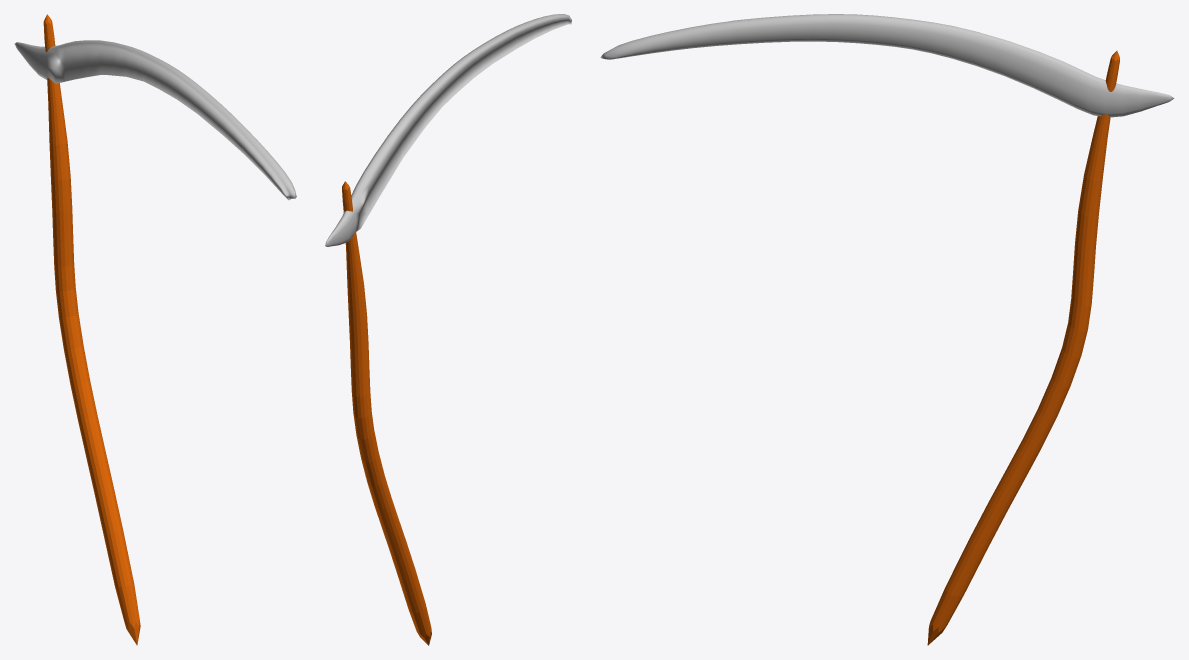
File: scythe.fbx
The picture shows the model from 3 angles, left to right: view 1: azimuth 30°, elevation 25°; view 2: azimuth 150°, elevation 25°; view 3: azimuth 270°, elevation 25°; orthographic projection. The views are drawn at different scales.
Parts seen in each view (by area): view 1: Cylinder, Cube; view 2: Cylinder, Cube; view 3: Cube, Cylinder.
Part boxes in pixels (x1,y1,x2,y2): Cylinder: (43,14,140,645); Cube: (14,40,296,200); Cylinder: (342,181,431,645); Cube: (325,14,571,246); Cube: (600,14,1174,117); Cylinder: (927,50,1119,645).
Bounding box in the file's own units: 76.99 × 2318 × 1907.
